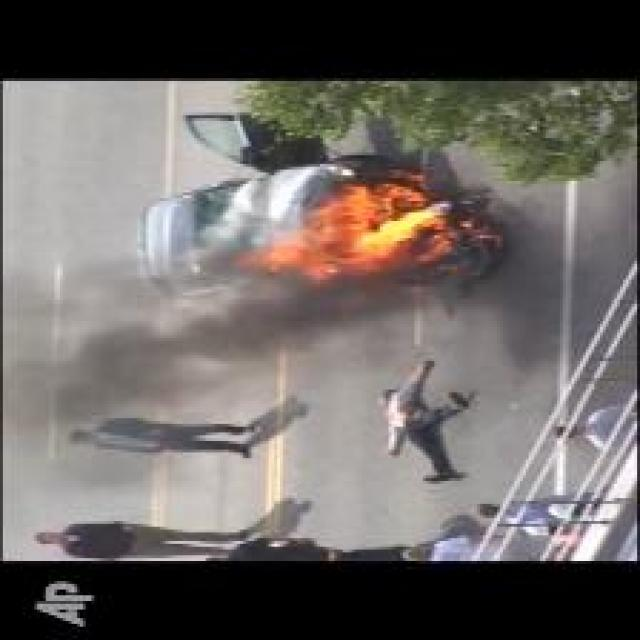Fire: (233, 182, 456, 284)
